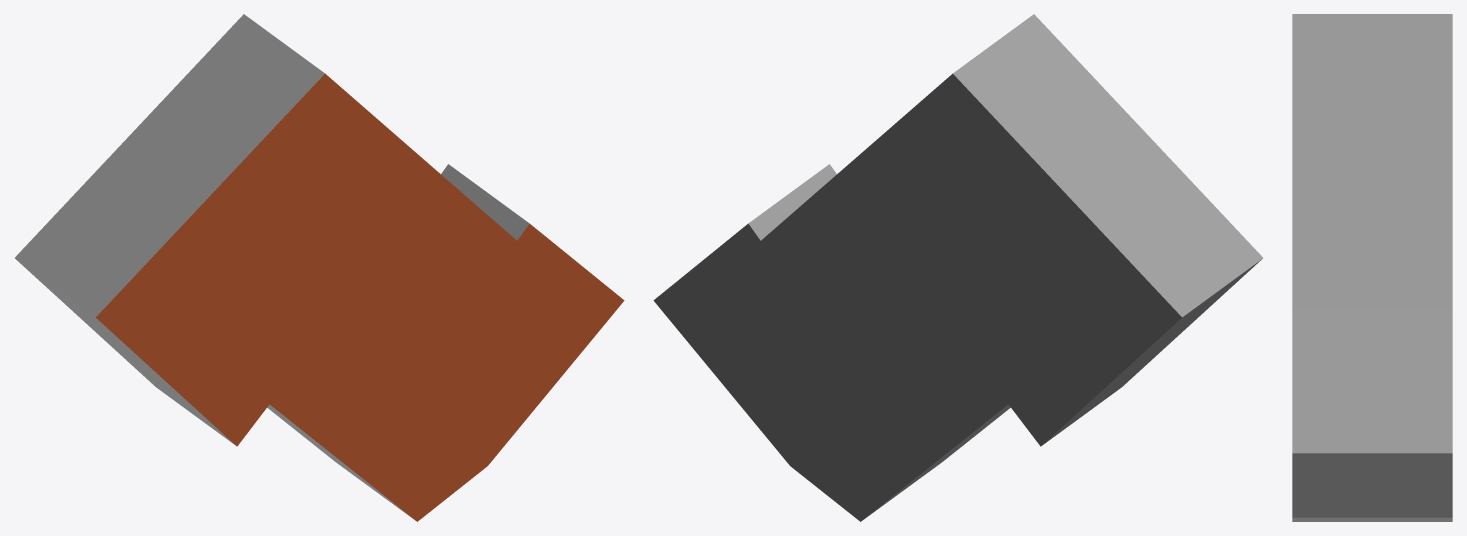
Rendered from construction_6699_assumed_A_Casa_h6m.obj.
3 renders of one model, left to right at view 1: azimuth 30°, elevation 25°; view 2: azimuth 150°, elevation 25°; view 3: azimuth 270°, elevation 25°, orthographic.
Parts seen in each view (by area): view 1: construction_6699_assumed_A_Casa; view 2: construction_6699_assumed_A_Casa; view 3: construction_6699_assumed_A_Casa.
Boxes of the visible parts, <box> form: construction_6699_assumed_A_Casa: <box>15,14,624,521</box>; construction_6699_assumed_A_Casa: <box>653,14,1262,521</box>; construction_6699_assumed_A_Casa: <box>1292,14,1452,521</box>.
Bounding box in the file's own units: 22.53 × 19.17 × 6.
